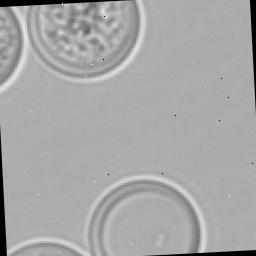picoshell: (85, 176, 208, 256), (26, 1, 145, 82), (0, 8, 30, 93), (8, 238, 89, 256)
